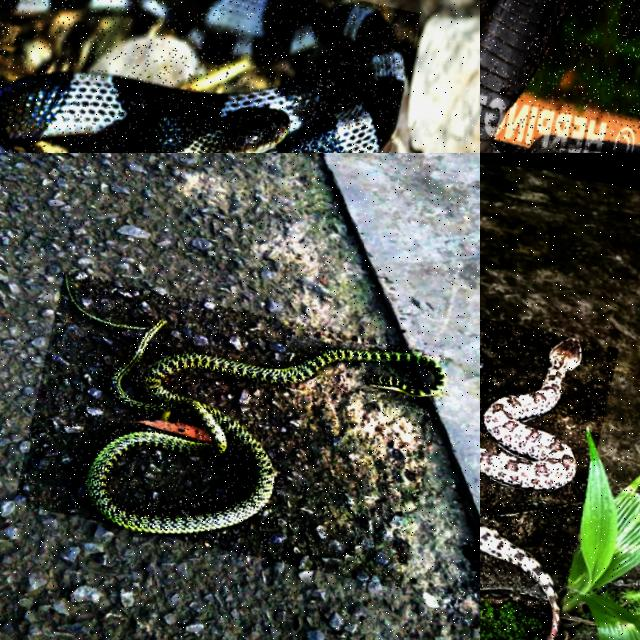Bungarus candidus: (0, 0, 405, 152)
Chrysopelea ornata: (64, 271, 445, 534)
Naja siamensis: (480, 0, 592, 152)
Ovophis monticola: (480, 338, 580, 491)
snake: (64, 271, 445, 534), (0, 0, 405, 152), (480, 0, 592, 152), (480, 338, 580, 491)
